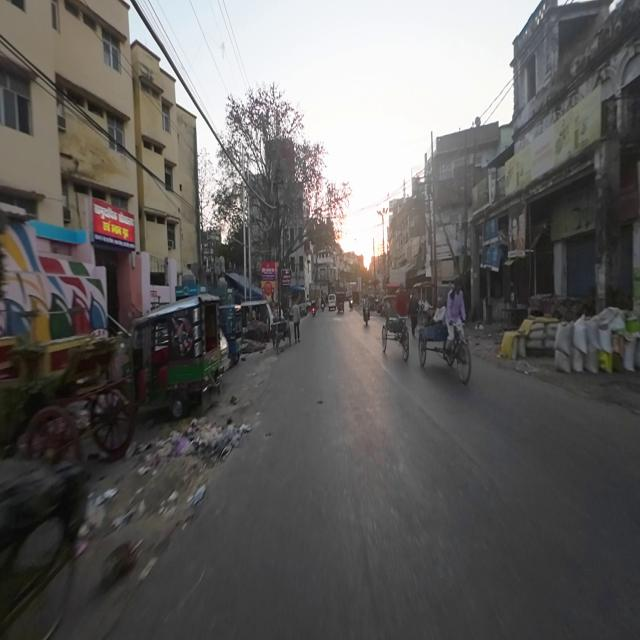Garbage: (163, 414, 241, 464)
